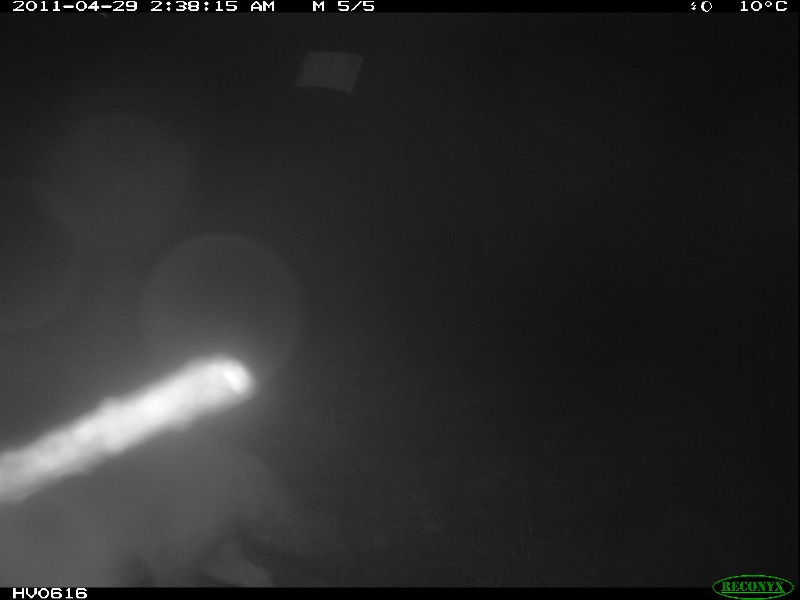fox: (1, 412, 344, 585)
